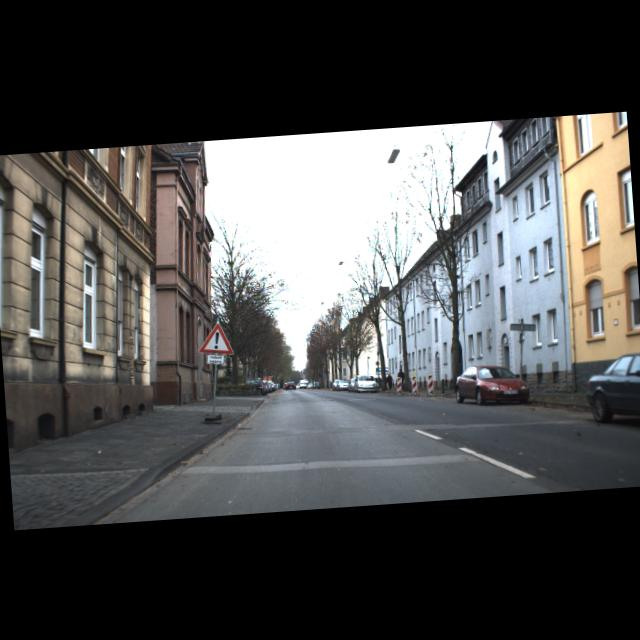danger: (196, 322, 234, 356)
